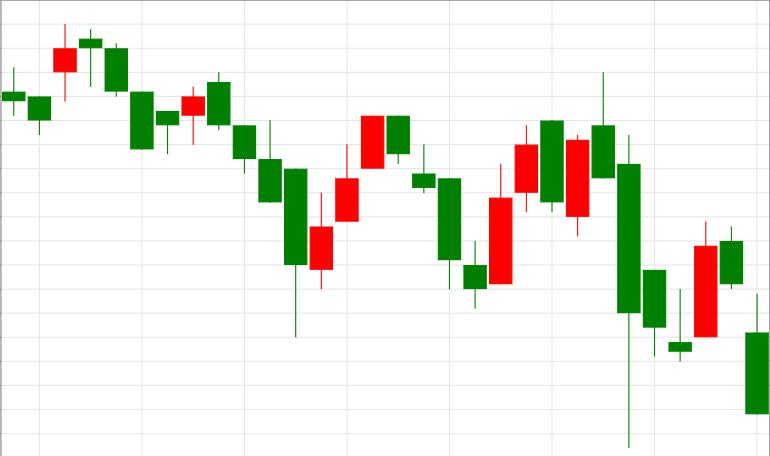morning_star_rise: (566, 71, 718, 447)
three_white_soldiers_rise: (208, 71, 384, 338)
